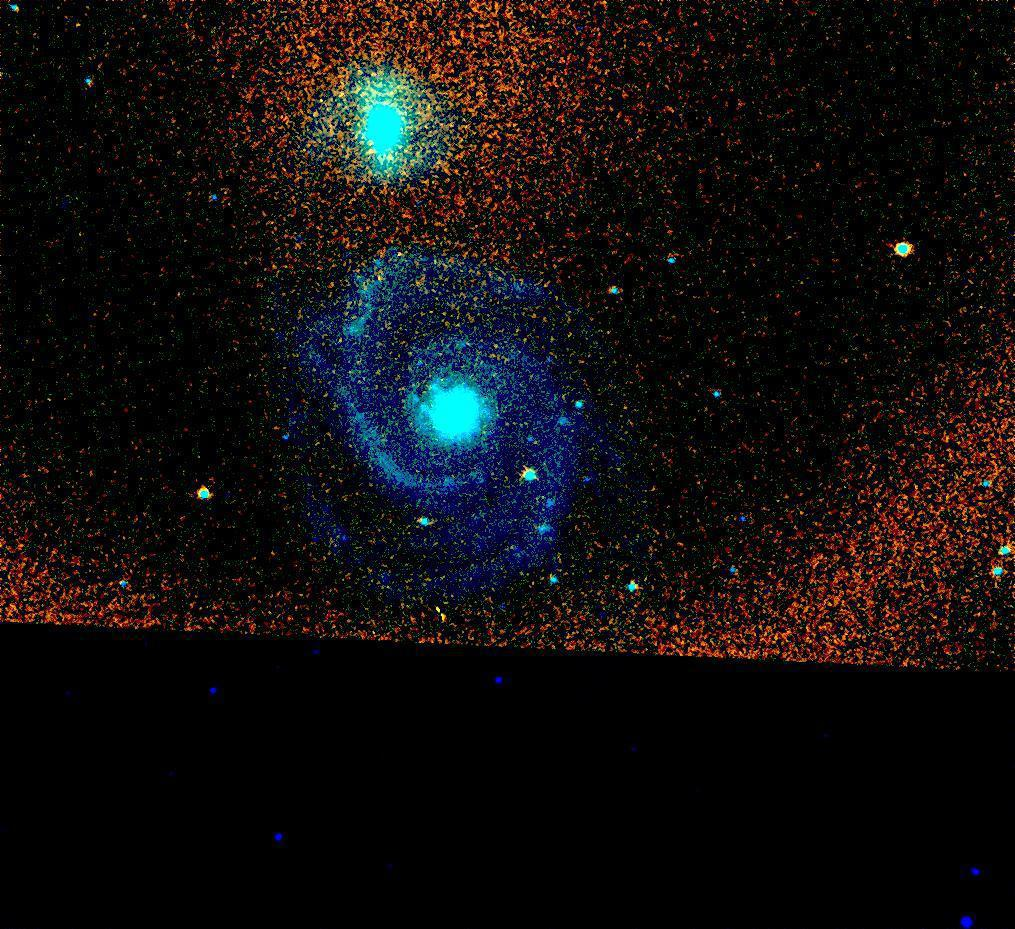star: (352, 127, 382, 157)
